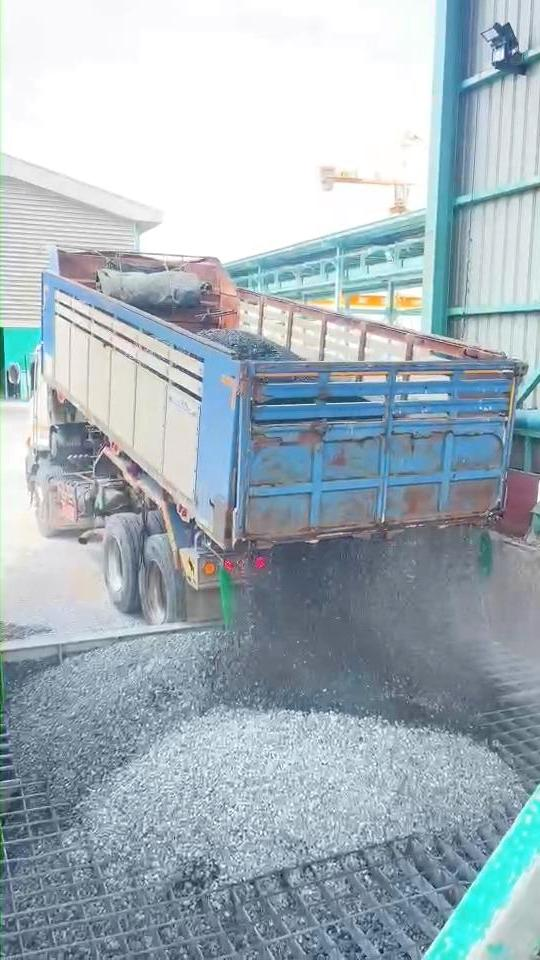gravel: (9, 630, 524, 884), (238, 528, 493, 729), (199, 329, 301, 359)
